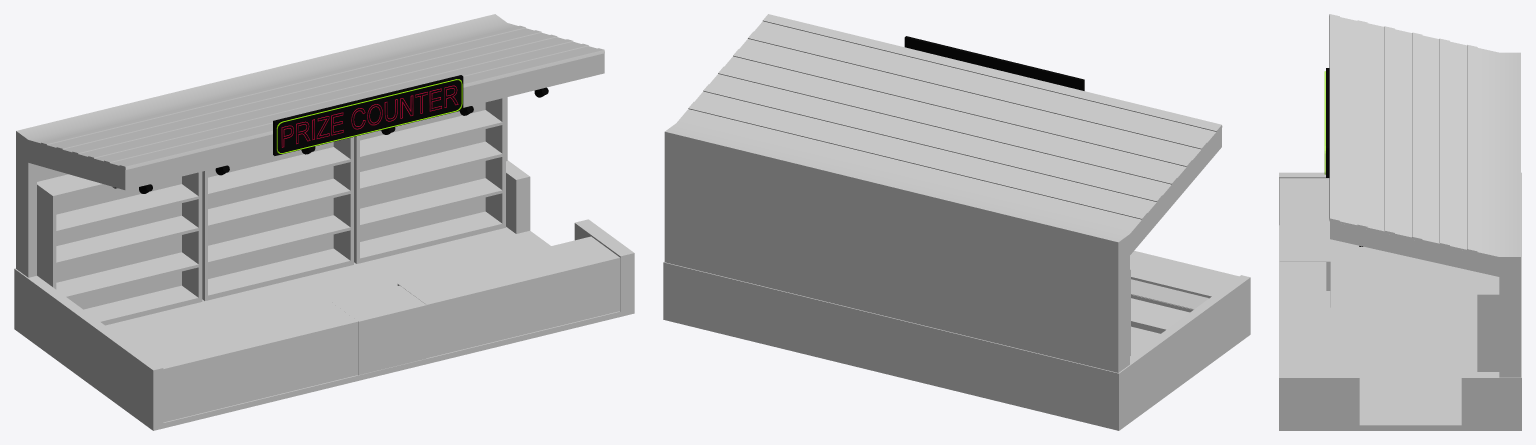
File: PrizeCounter_90s.fbx
3 renders of one model, left to right at view 1: azimuth 30°, elevation 25°; view 2: azimuth 150°, elevation 25°; view 3: azimuth 270°, elevation 25°, orthographic. The views are drawn at different scales.
Parts seen in each view (by area): view 1: Shelves, Base, PrizeCounter_CanopyRoof, PrizeCounter_GlassFront, Flooring, Canopy, Sign, PrizeCounter_Front, PrizeCounter_SpotLight; view 2: PrizeCounter_CanopyRoof, Canopy, Base, Sign, PrizeCounter_ShelvesGlass; view 3: PrizeCounter_CanopyRoof, Flooring, Base, Canopy, Shelves, PrizeCounter_Front, Sign.
Part boxes in pixels (x1=…): Shelves: x1=37, y1=97, x2=505, y2=325; Base: x1=14, y1=160, x2=634, y2=430; PrizeCounter_CanopyRoof: x1=16, y1=14, x2=604, y2=169; PrizeCounter_GlassFront: x1=168, y1=261, x2=614, y2=414; Flooring: x1=105, y1=227, x2=550, y2=347; Canopy: x1=16, y1=53, x2=604, y2=277; Sign: x1=273, y1=75, x2=463, y2=155; PrizeCounter_Front: x1=332, y1=285, x2=426, y2=375; PrizeCounter_SpotLight: x1=113, y1=87, x2=548, y2=193; PrizeCounter_CanopyRoof: x1=664, y1=14, x2=1222, y2=244; Canopy: x1=664, y1=128, x2=1221, y2=372; Base: x1=663, y1=250, x2=1250, y2=430; Sign: x1=904, y1=36, x2=1084, y2=90; PrizeCounter_ShelvesGlass: x1=1131, y1=279, x2=1208, y2=309; PrizeCounter_CanopyRoof: x1=1329, y1=14, x2=1520, y2=259; Flooring: x1=1330, y1=239, x2=1477, y2=426; Base: x1=1279, y1=172, x2=1521, y2=430; Canopy: x1=1330, y1=221, x2=1520, y2=377; Shelves: x1=1477, y1=272, x2=1499, y2=371; PrizeCounter_Front: x1=1279, y1=262, x2=1326, y2=290; Sign: x1=1324, y1=68, x2=1329, y2=177.
Size of the model in its own units: 593 by 298 by 297.
